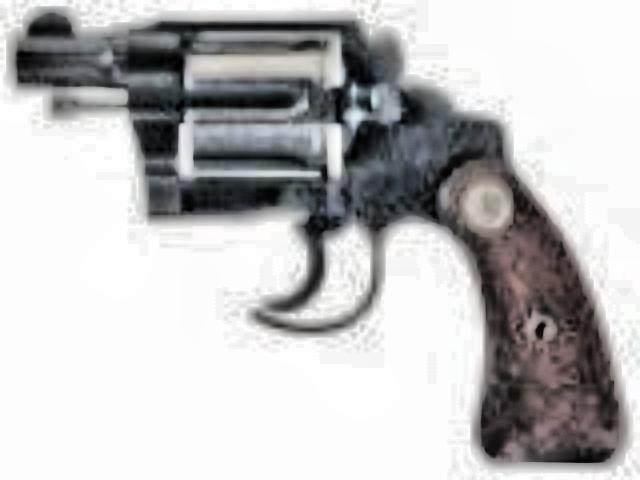pistol: (12, 0, 632, 468)
